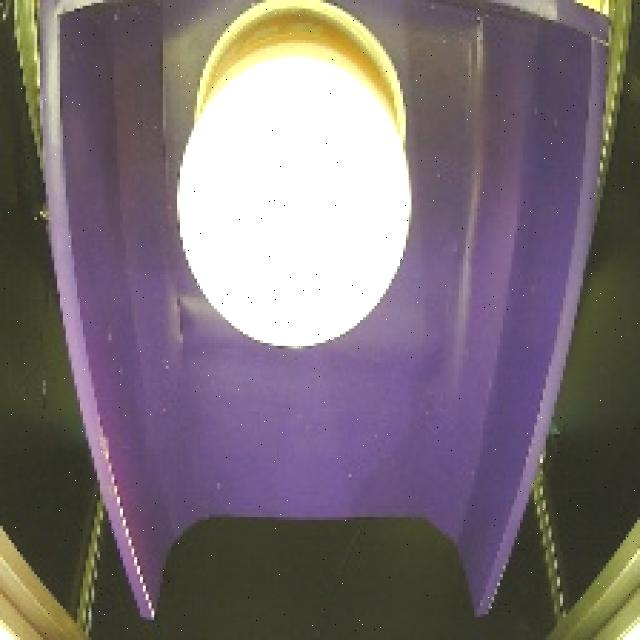cups: (169, 0, 425, 358)
